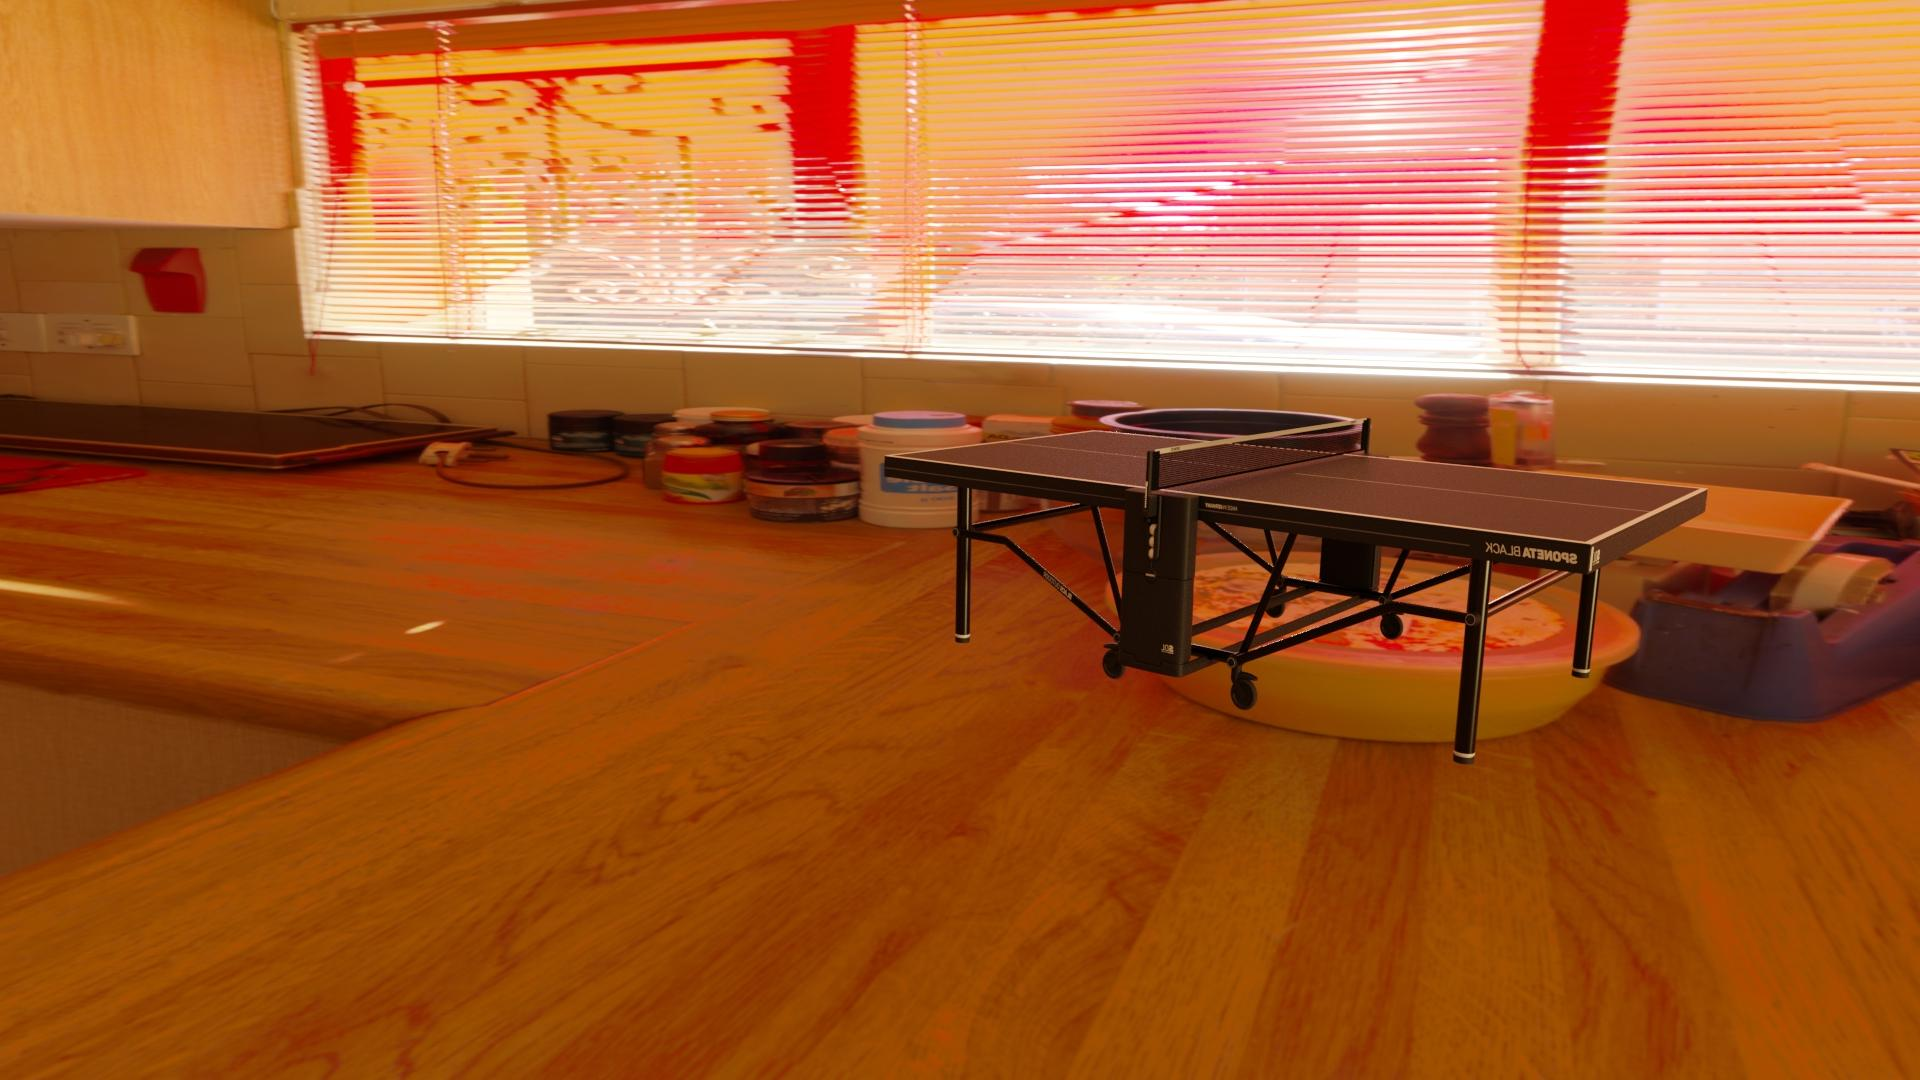table: (891, 431, 1701, 542)
